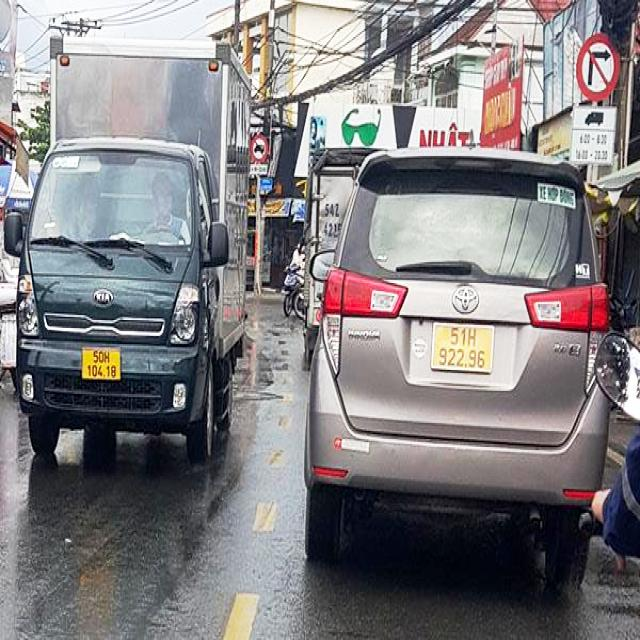license_plate: (432, 324, 494, 375), (83, 347, 121, 383)
